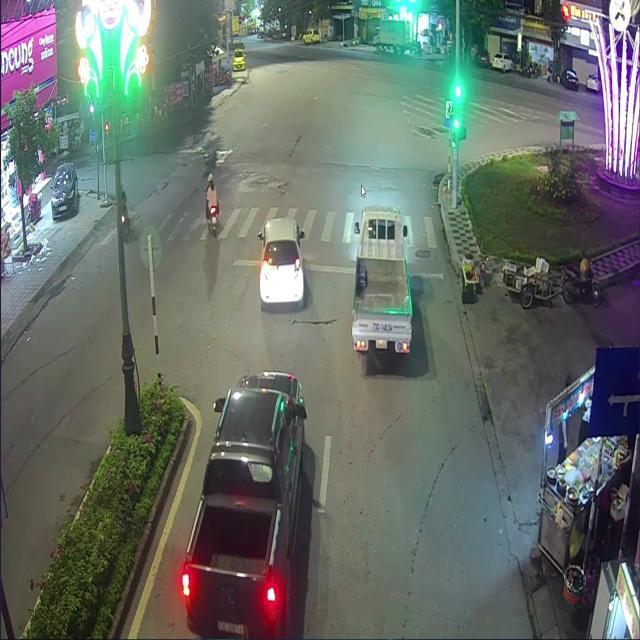car: (180, 370, 306, 636), (350, 206, 412, 353), (257, 217, 305, 308)
green_light: (452, 97, 459, 127)
motobike: (205, 204, 219, 235)
stop_line: (231, 258, 442, 280)
